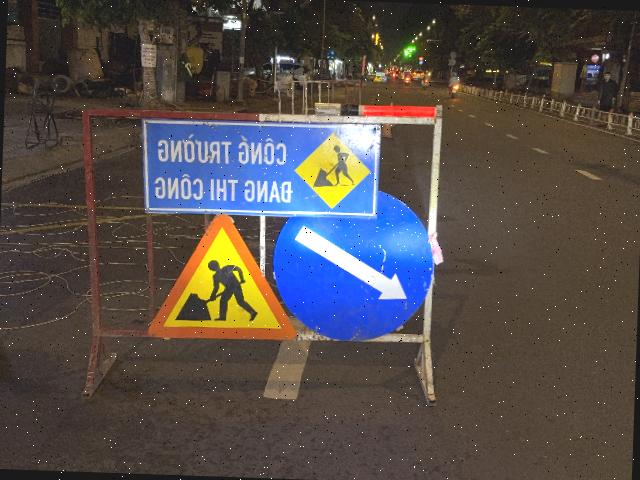cong-truong-dang-thi-cong: (147, 211, 301, 342)
huong-phai-di-vong-chuong-ngai-vat: (270, 186, 437, 344)
